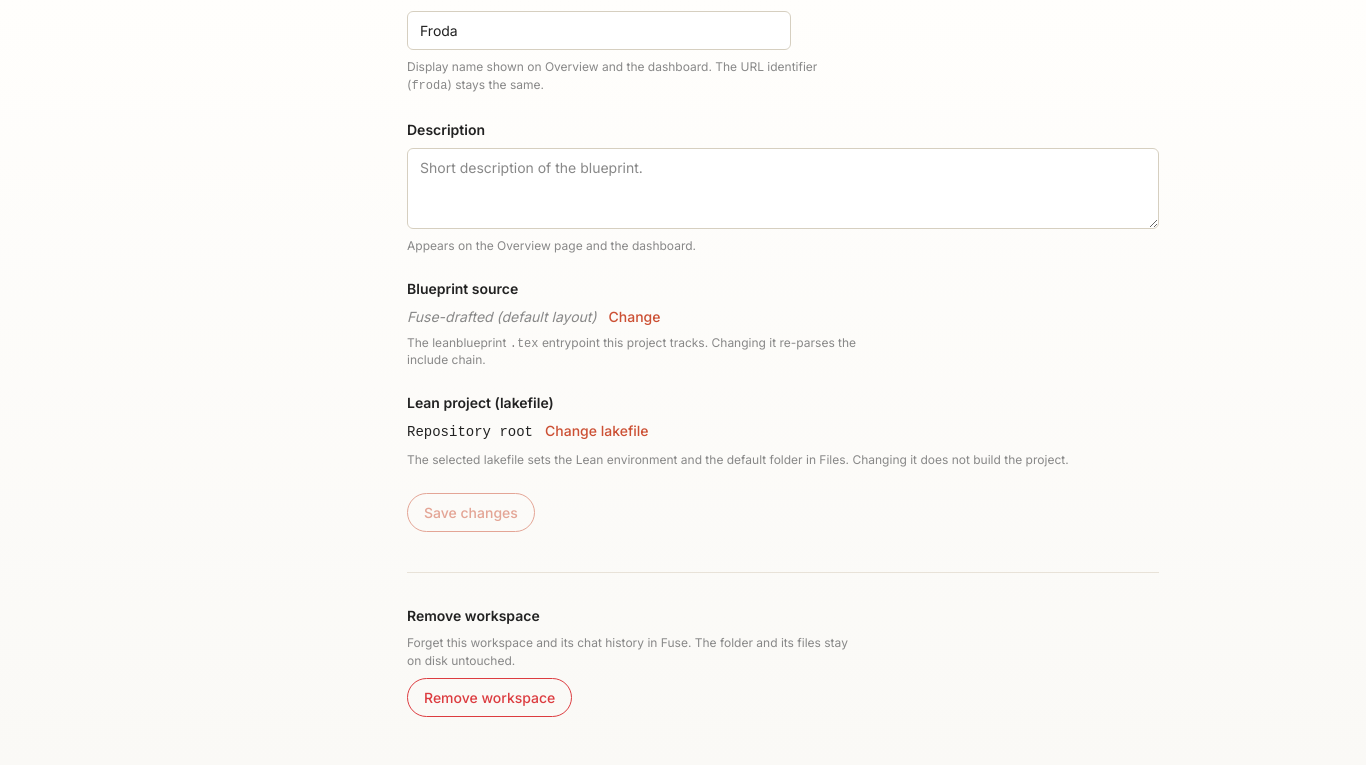
Test case: SettingsMode › remove workspace › cancelling the dialog removes nothing
The width and height of the screenshot is (1366, 765).
(page scrolled)
Click the button "Remove workspace" at (490, 698), box [407,678,572,717]
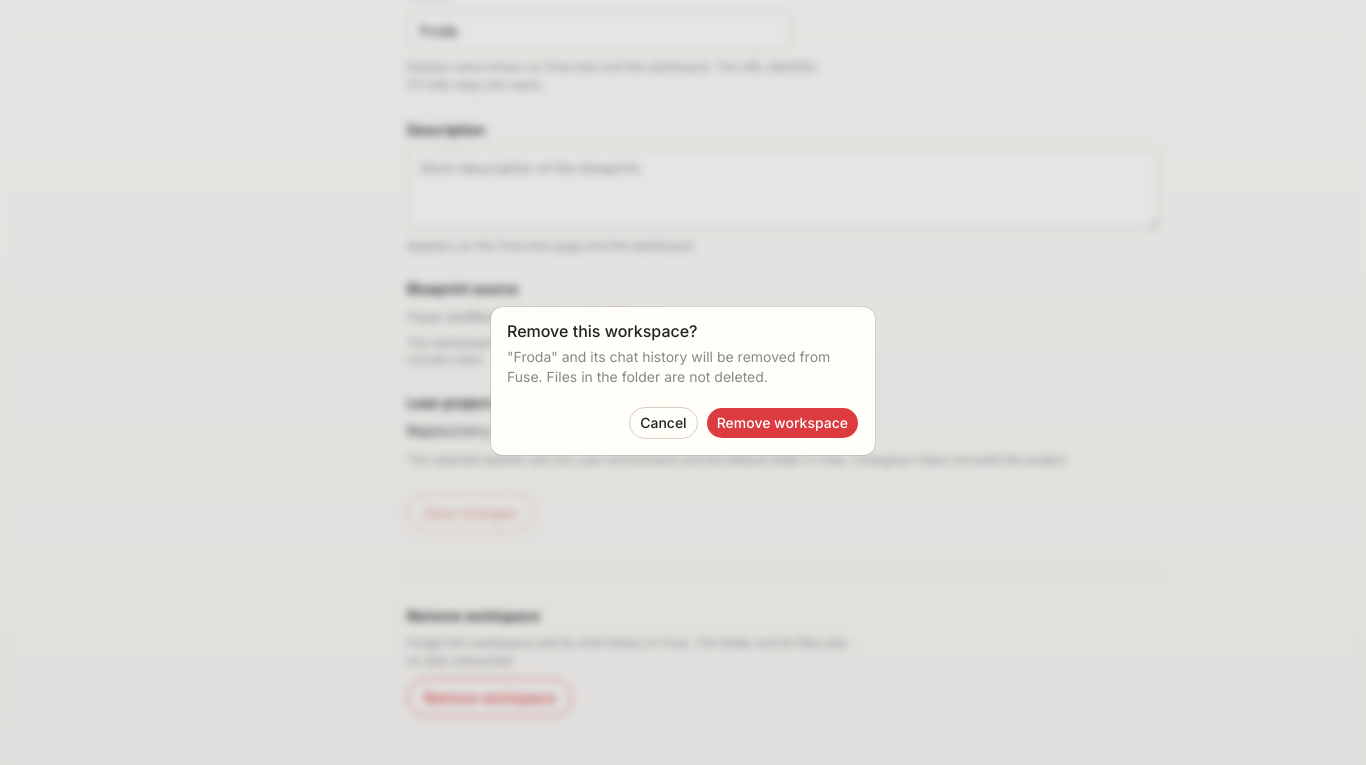
Click the button "Cancel" at (663, 423), box [629,407,698,439]
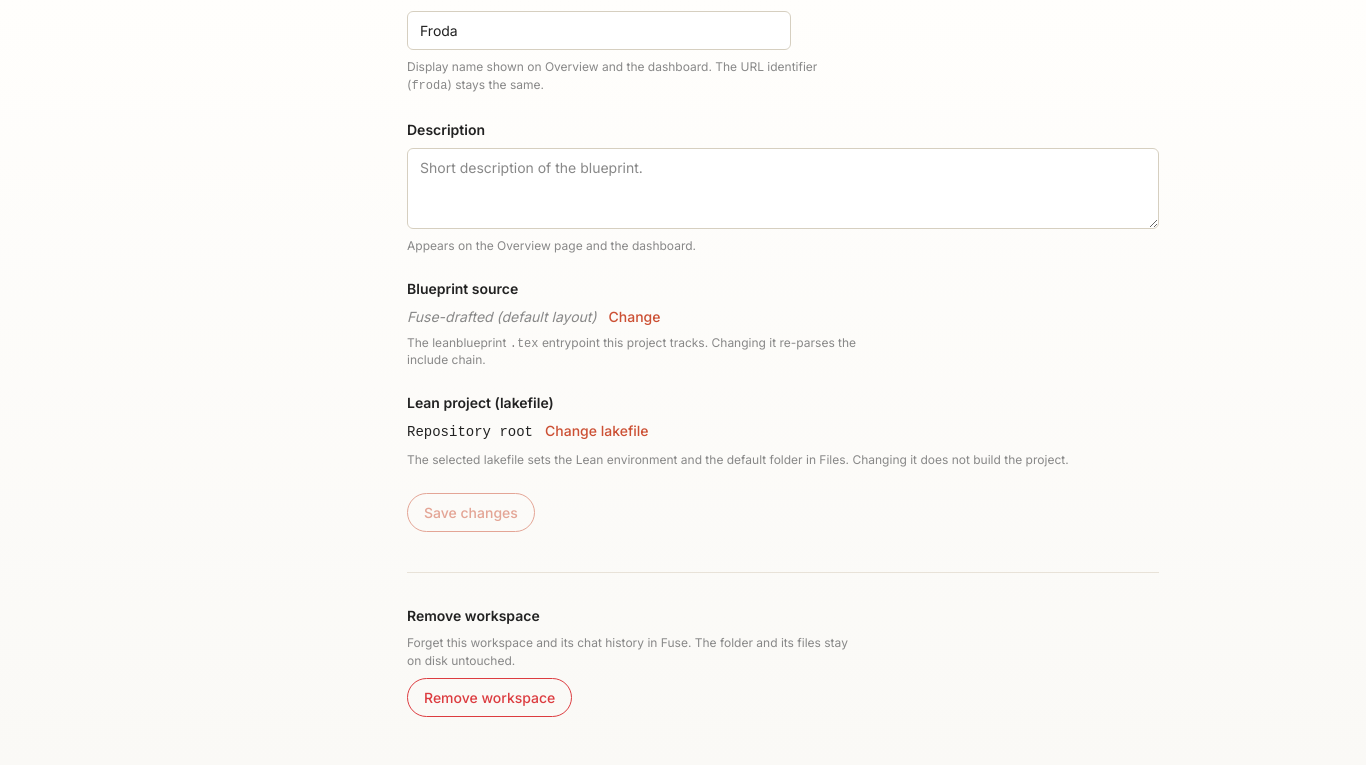
Check: the dialog is gone
